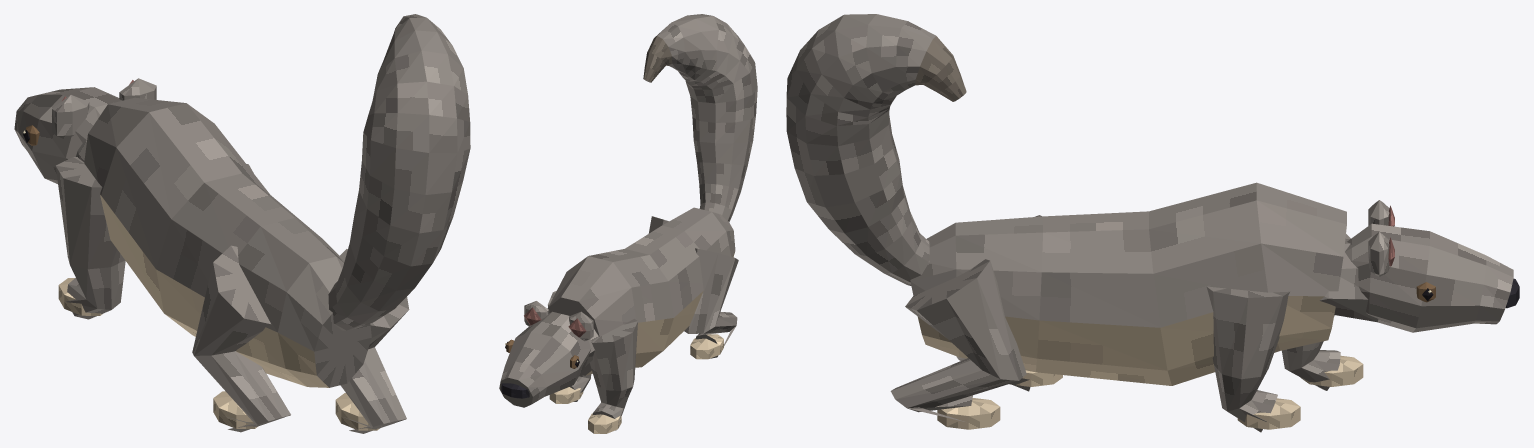
The model's file is mon_squirrel.glb.
3 views of the same model, side by side, from view 1: azimuth 30°, elevation 25°; view 2: azimuth 150°, elevation 25°; view 3: azimuth 270°, elevation 25° (orthographic). The views are drawn at different scales.
Visible parts, largest first — view 1: closed_body; view 2: closed_body; view 3: closed_body.
Boxes of the visible parts, left/top/right/bottom form: closed_body: left=14, top=14, right=470, bottom=433; closed_body: left=499, top=14, right=757, bottom=433; closed_body: left=786, top=14, right=1519, bottom=432.
Bounding box in the file's own units: 0.0993 × 0.2438 × 0.3833.
1 material, 1 textured.
